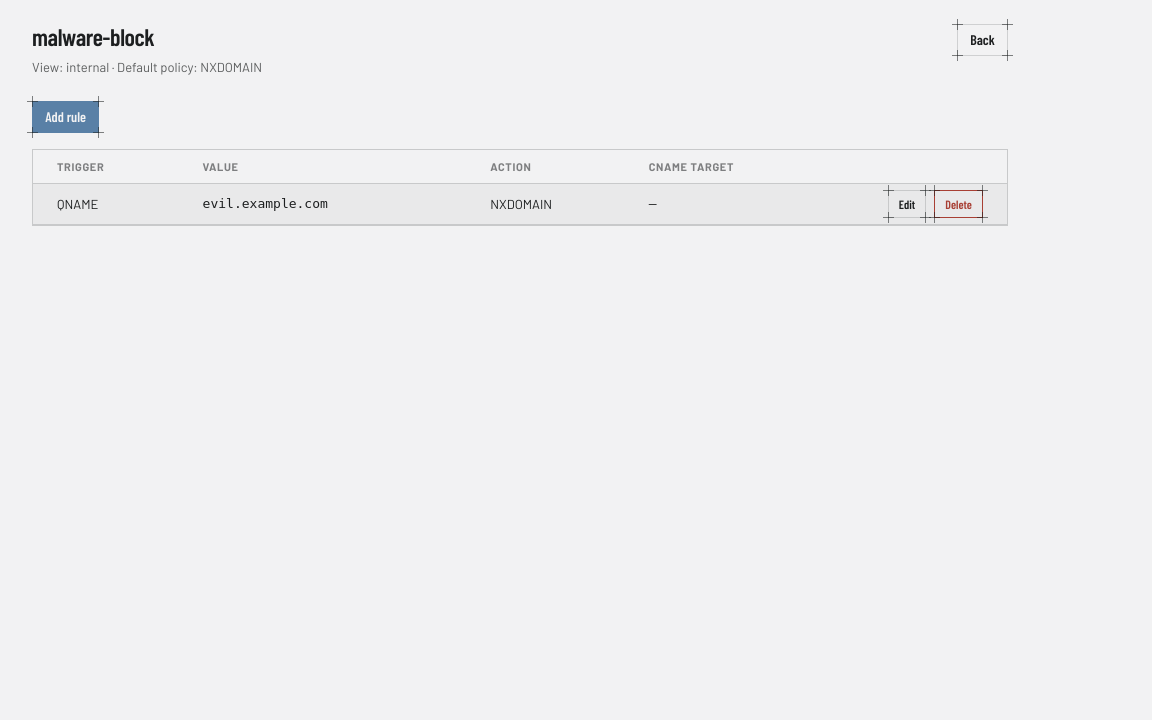
RpzPolicyDetail › a server validation error on add rule is shown via InlineAlert
Click the button "Add rule": coordinates (66, 117) [32, 101, 99, 133]
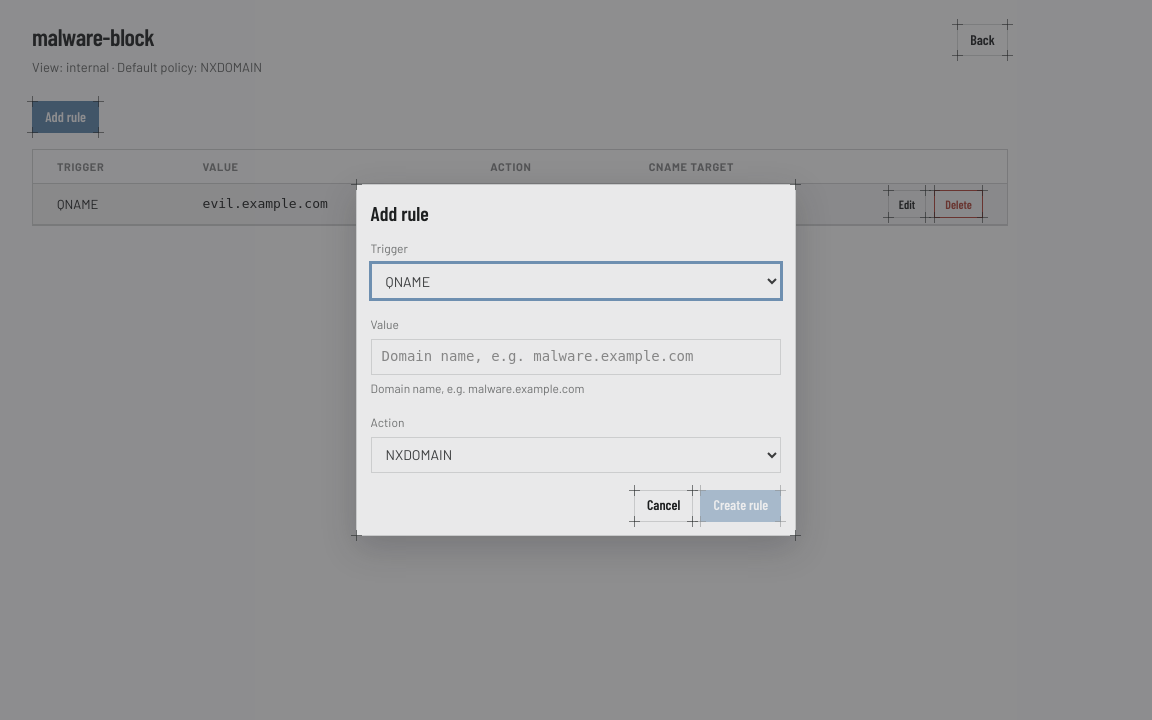
In the field labelled "Value": coordinates (576, 357) [371, 339, 781, 375], type "not a domain"
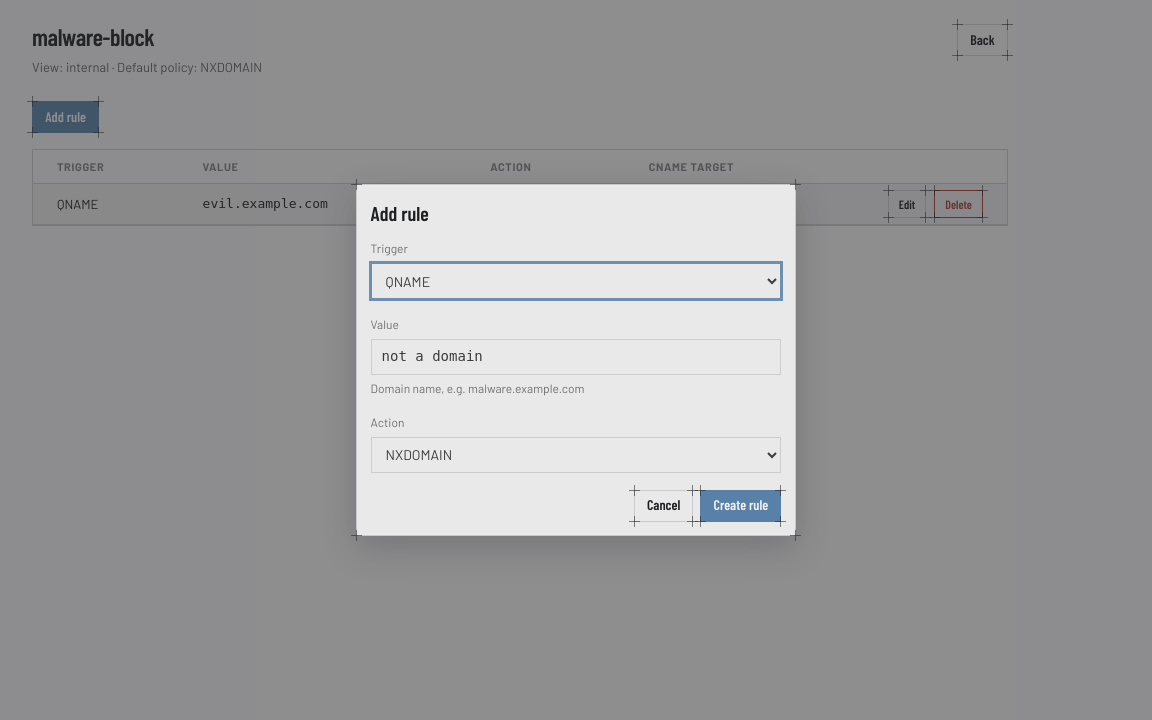
Click the button "Create rule": coordinates (741, 506) [700, 490, 781, 522]
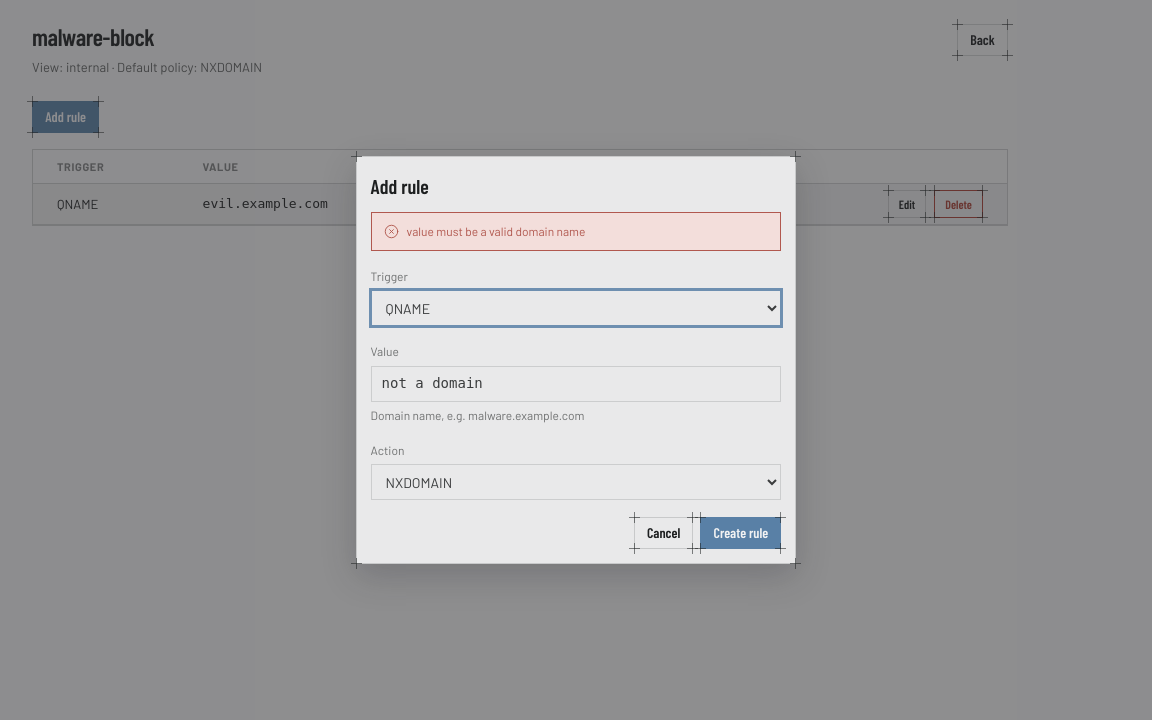
Expected: the text "value must be a valid domain name" is shown, [407, 224, 585, 238]
